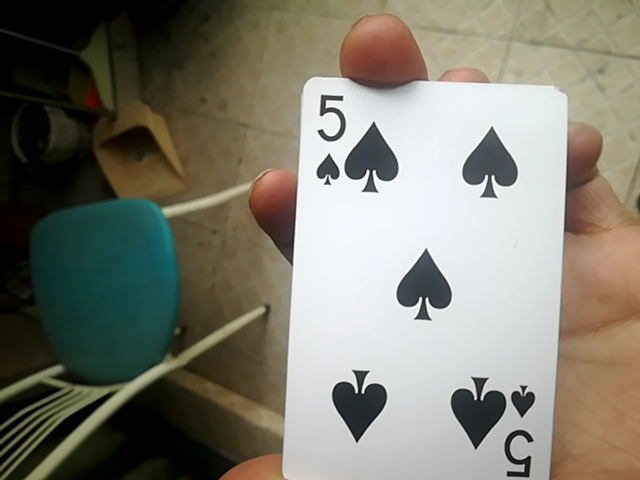ht 5: (283, 71, 569, 476)
